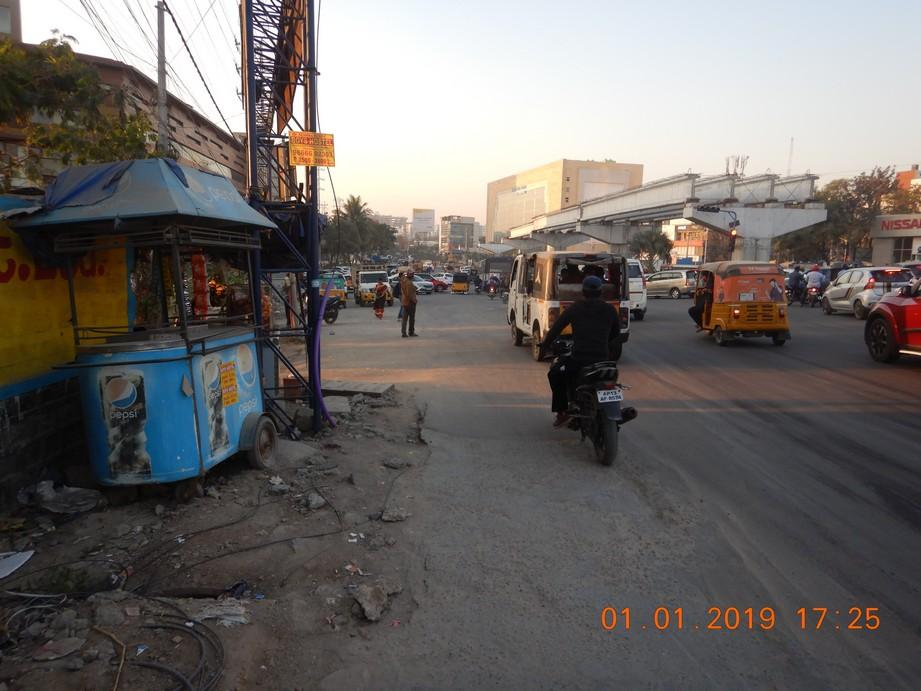plate: (595, 387, 625, 403)
